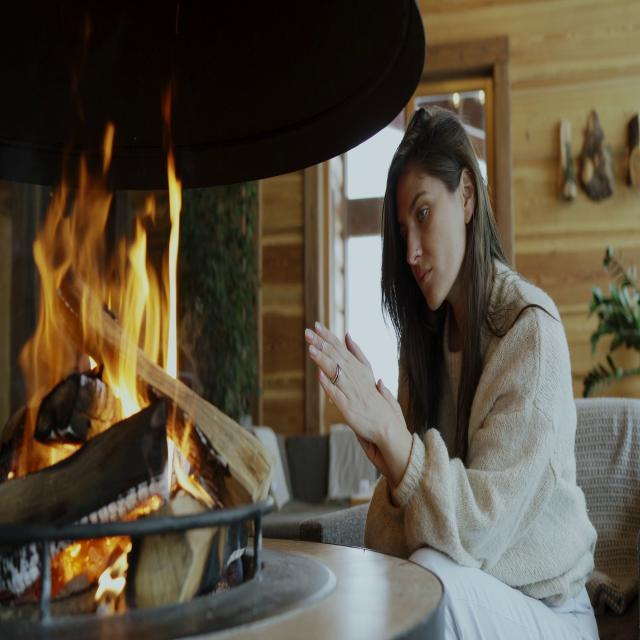Fire: (0, 104, 196, 610)
